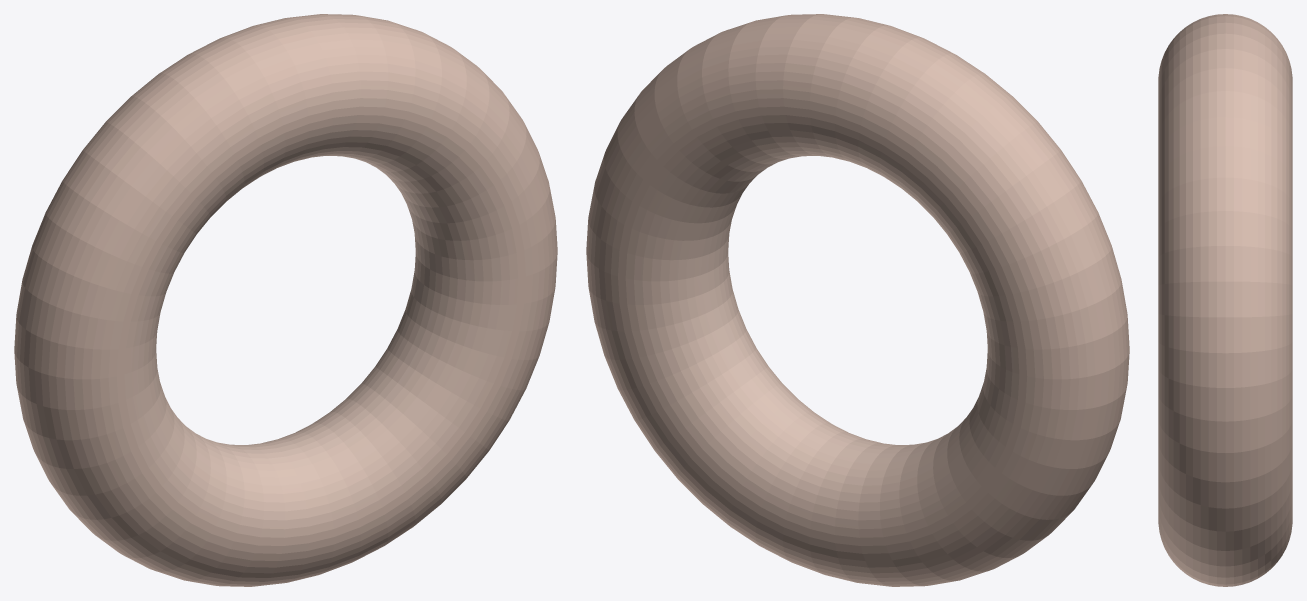
3 renders of one model, left to right at view 1: azimuth 30°, elevation 25°; view 2: azimuth 150°, elevation 25°; view 3: azimuth 270°, elevation 25°, orthographic. The views are drawn at different scales.
Parts seen in each view (by area): view 1: world; view 2: world; view 3: world.
Boxes of the visible parts, <box> form: world: <box>14,14,557,586</box>; world: <box>586,14,1129,586</box>; world: <box>1158,14,1292,586</box>.
Bounding box in the file's own units: 27.87 × 27.81 × 6.52.
